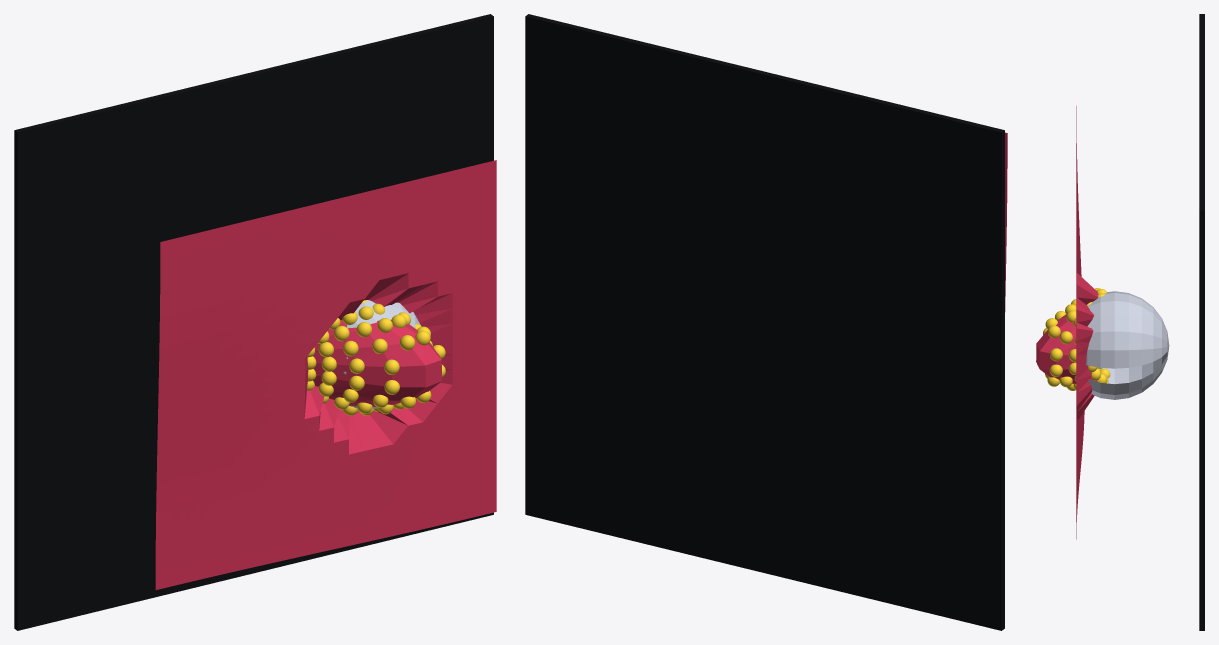
3 renders of one model, left to right at view 1: azimuth 30°, elevation 25°; view 2: azimuth 150°, elevation 25°; view 3: azimuth 270°, elevation 25°, orthographic. The views are drawn at different scales.
Visible parts, largest first — view 1: genesis_cloth_on_rigid; view 2: genesis_cloth_on_rigid; view 3: genesis_cloth_on_rigid.
Part boxes in pixels (box(x1,y1,x2,y2)): genesis_cloth_on_rigid: box(14, 14, 496, 630); genesis_cloth_on_rigid: box(525, 14, 1007, 630); genesis_cloth_on_rigid: box(1036, 14, 1204, 630).
Bounding box in the file's own units: 8.5 × 8.5 × 3.09.
